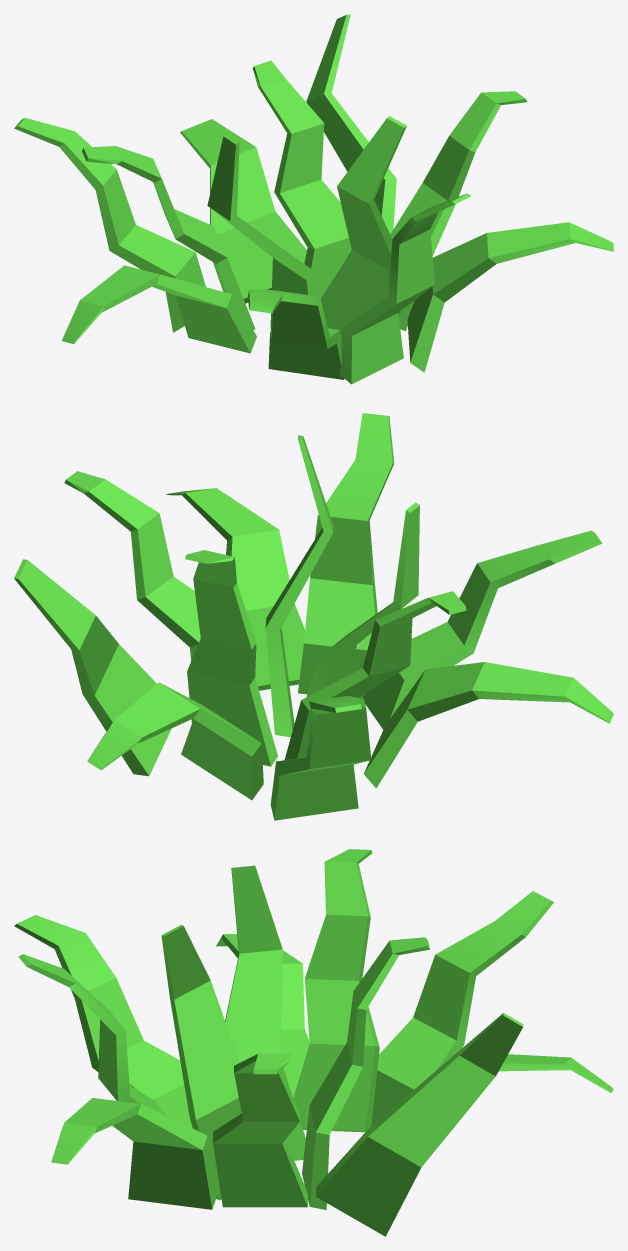
Rendered from grass.fbx.
3 views of the same model, one above another, from view 1: azimuth 30°, elevation 25°; view 2: azimuth 150°, elevation 25°; view 3: azimuth 270°, elevation 25° (orthographic). The views are drawn at different scales.
Parts seen in each view (by area): view 1: grass; view 2: grass; view 3: grass.
Part boxes in pixels (x1=…): grass: x1=14, y1=14, x2=613, y2=384; grass: x1=14, y1=413, x2=613, y2=820; grass: x1=14, y1=849, x2=613, y2=1236.
Bounding box in the file's own units: 268 × 135 × 263.
